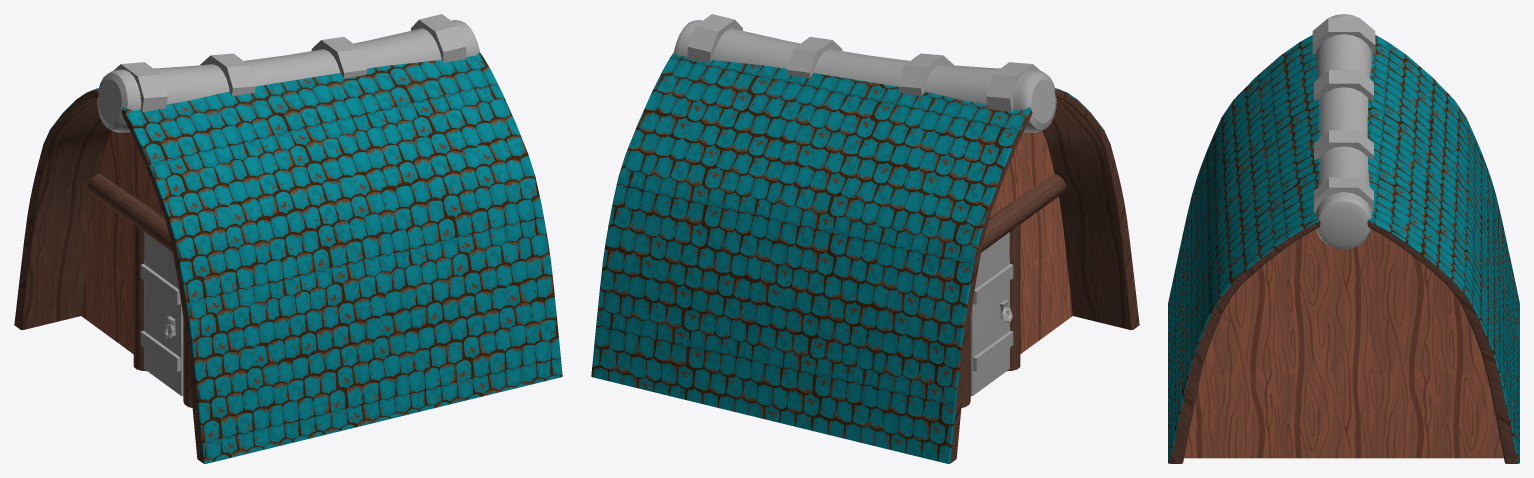
Rendered from casa normal.fbx.
The picture shows the model from 3 angles, left to right: view 1: azimuth 30°, elevation 25°; view 2: azimuth 150°, elevation 25°; view 3: azimuth 270°, elevation 25°; orthographic projection. The views are drawn at different scales.
Parts seen in each view (by area): view 1: polySurface9, pCube5, polySurface8, Viking_door, polySurface13; view 2: polySurface9, pCube5, polySurface8, Viking_door, polySurface13; view 3: polySurface9, polySurface15, pCube5.
Part boxes in pixels (x1,y1,x2,y2): polySurface9: (14,52,562,463); pCube5: (97,14,479,132); polySurface8: (81,130,164,353); Viking_door: (140,232,183,396); polySurface13: (87,173,192,407); polySurface9: (591,52,1139,463); pCube5: (674,14,1056,132); polySurface8: (989,130,1072,353); Viking_door: (970,232,1013,396); polySurface13: (961,173,1066,407); polySurface9: (1168,35,1519,463); polySurface15: (1184,229,1503,458); pCube5: (1312,14,1375,249).
Size of the model in its own units: 9.53 by 8.17 by 8.69.
